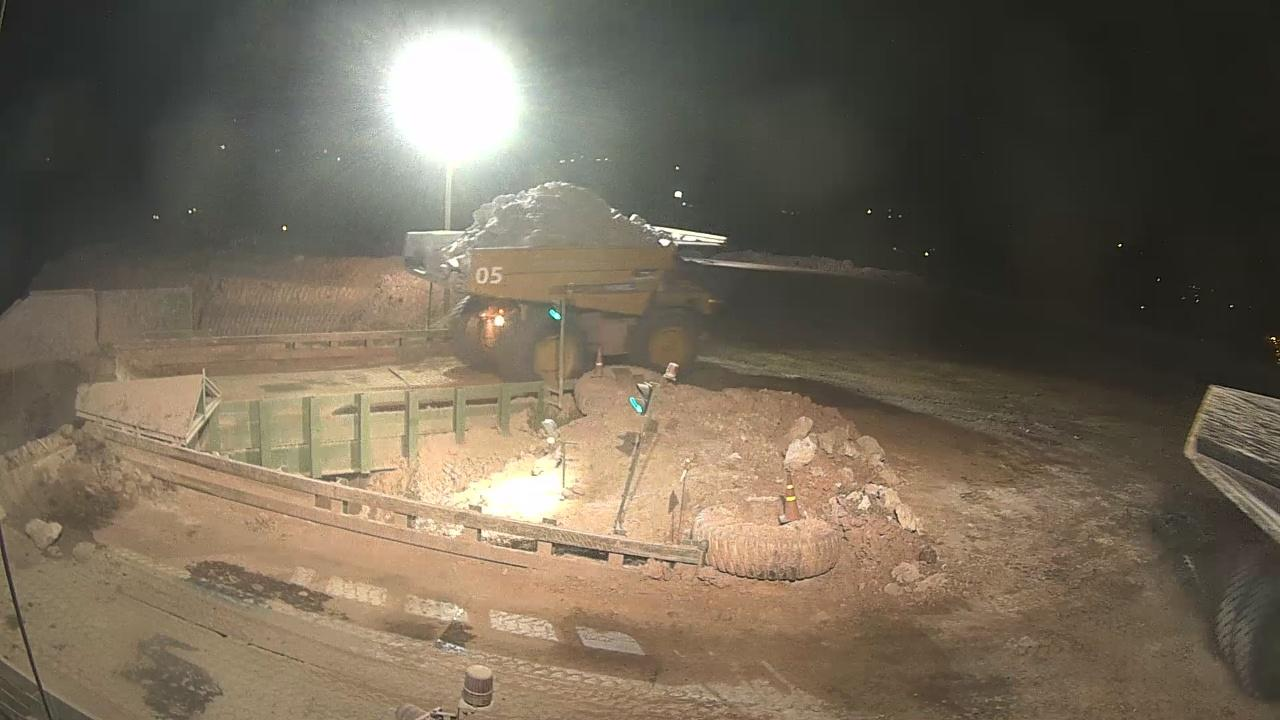full_load: (458, 183, 659, 250)
mining_truck: (402, 162, 728, 383)
tail_number: (467, 259, 508, 289)
